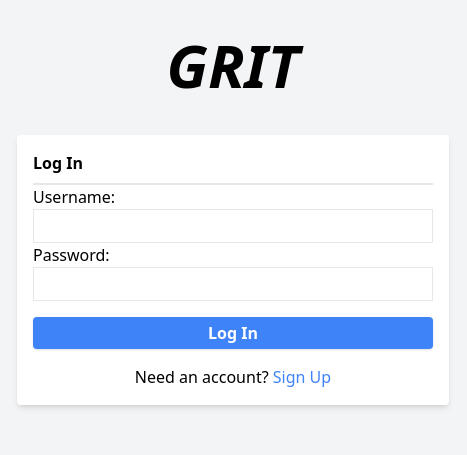
Test case: Login Page › routes to the register page
The width and height of the screenshot is (467, 455).
Click the link with test id "register-link".
click(302, 377)  # box left=273, top=366, right=331, bottom=388
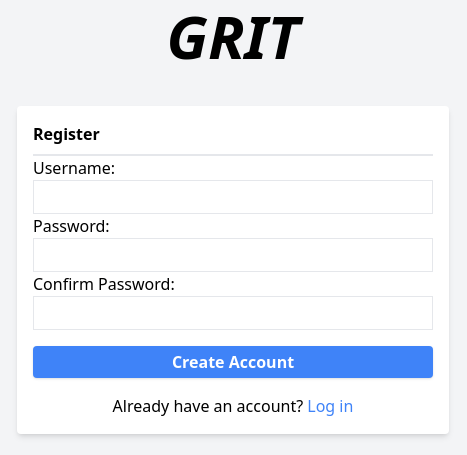
Expected: the text "Register" is shown, left=33, top=122, right=433, bottom=156
